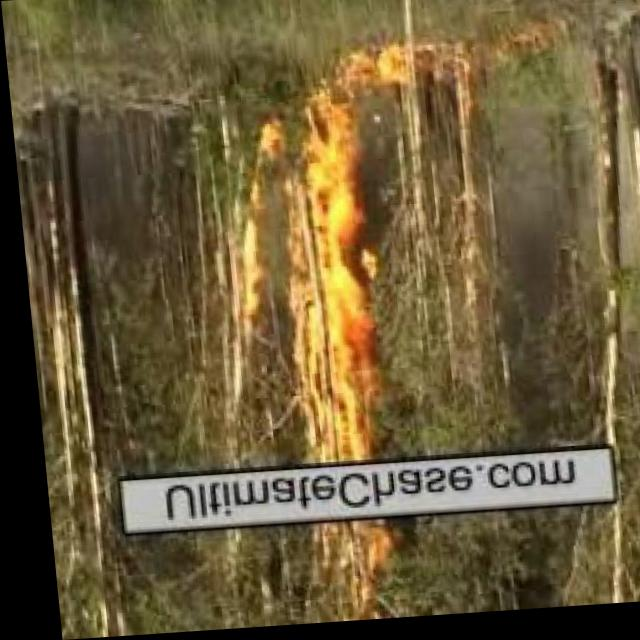Fire: (199, 44, 471, 349), (273, 369, 387, 455), (318, 537, 389, 616)
